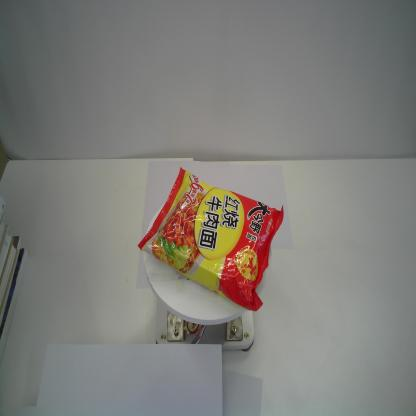Instant Noodles: (137, 166, 284, 312)
